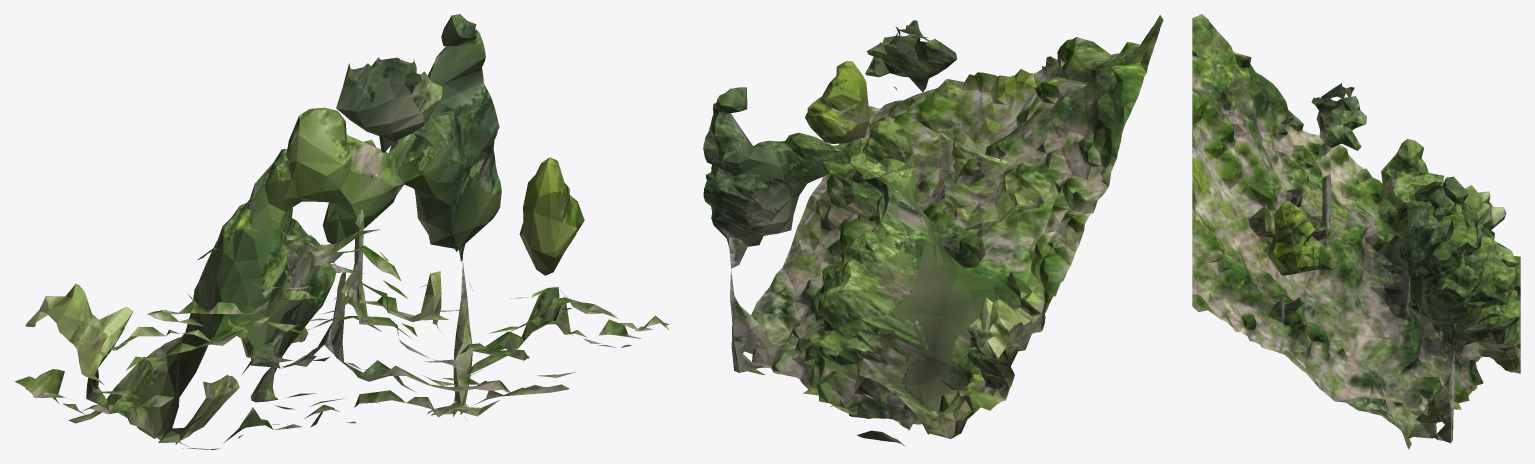
3 views of the same model, side by side, from view 1: azimuth 30°, elevation 25°; view 2: azimuth 150°, elevation 25°; view 3: azimuth 270°, elevation 25° (orthographic). The views are drawn at different scales.
Size of the model in its own units: 26.11 by 26.11 by 26.11.
Materials: 6 (6 with a texture image).
